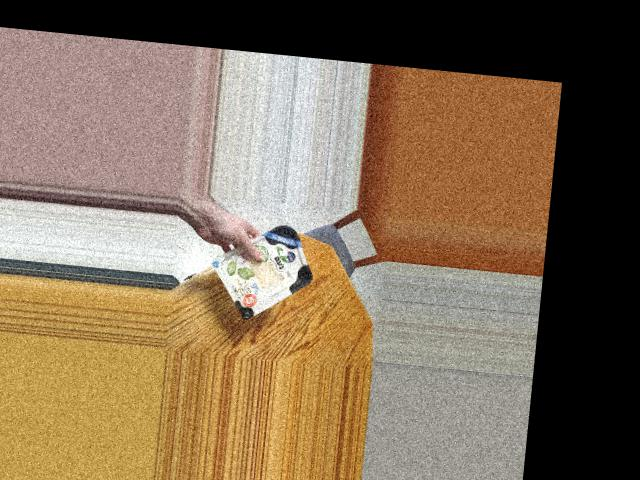cheese: (223, 214, 313, 319)
